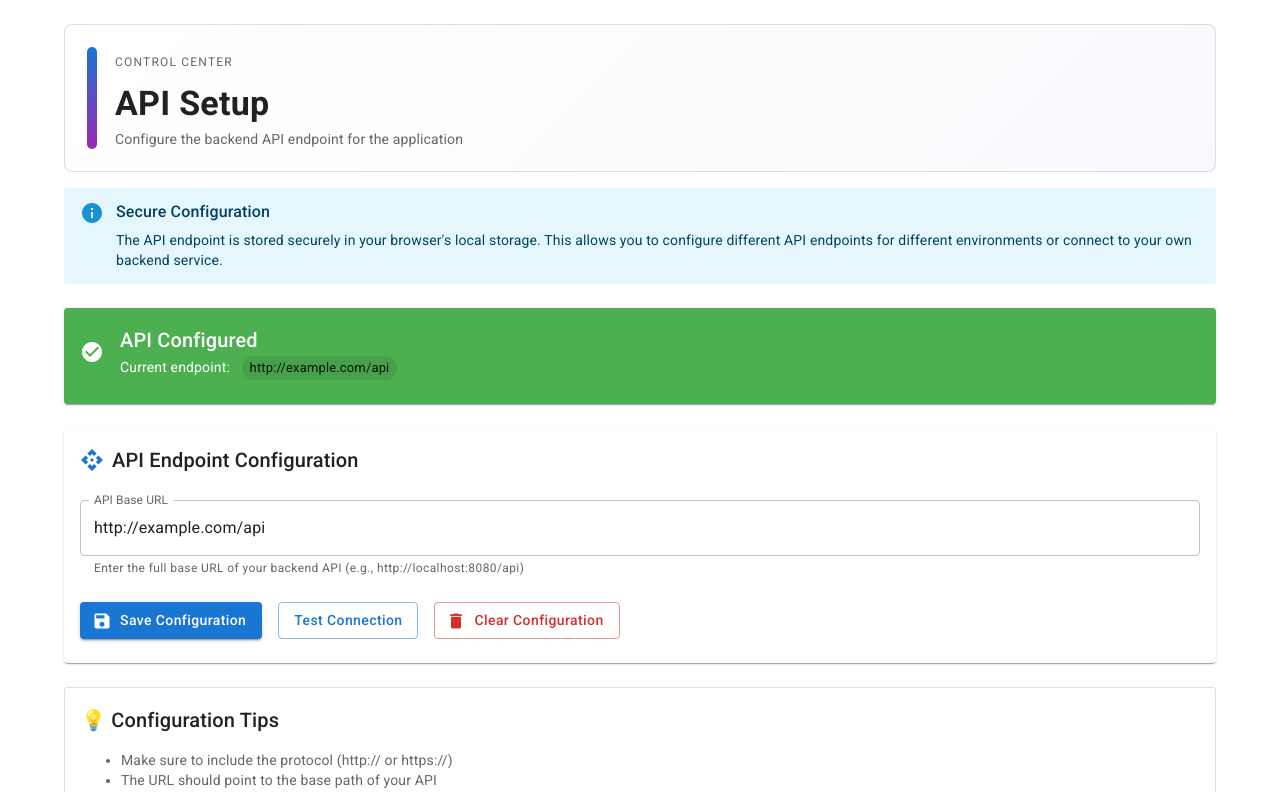
Scenario: ApiSetupPage › User Interactions › should clear configuration when clear button is clicked
Click the button "Clear Configuration" at [527, 621], box 434,602 -> 620,639
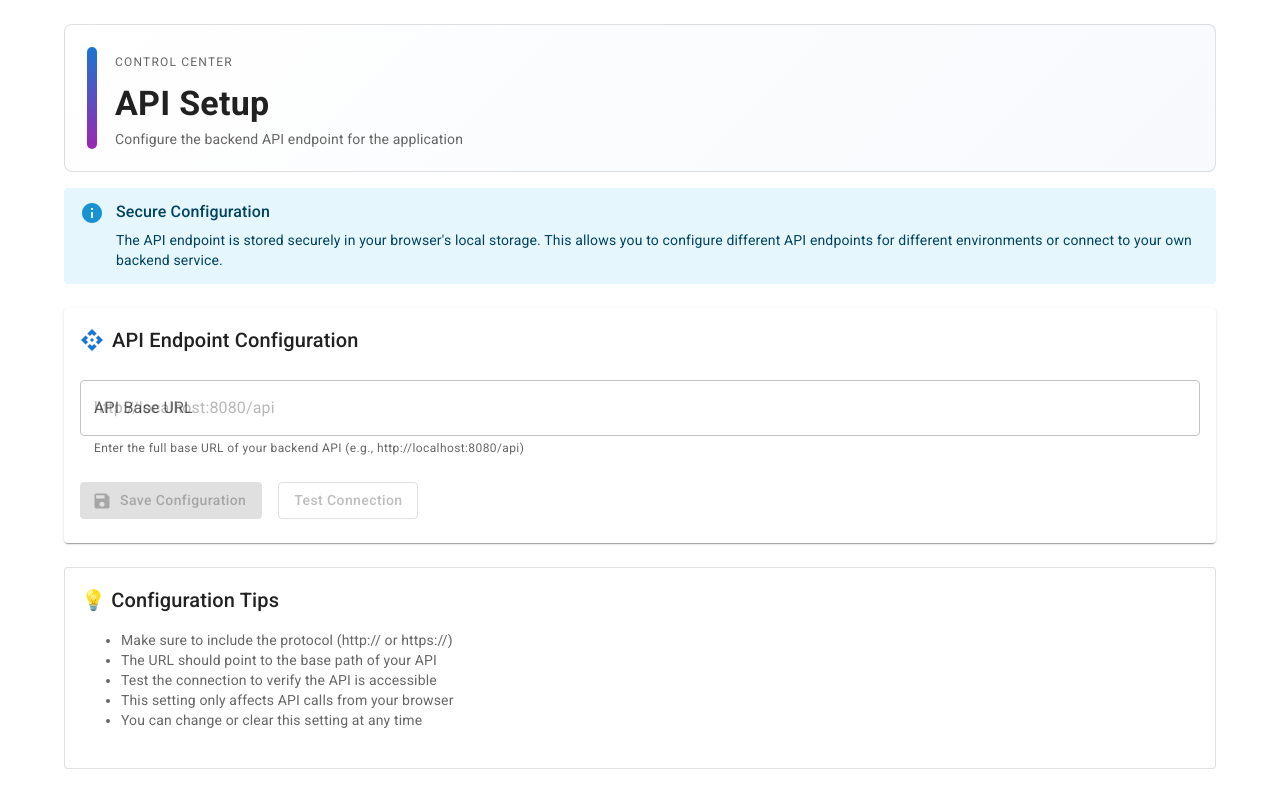
Check: the field labelled "API Base URL" is empty, box 80,380 -> 1200,436
